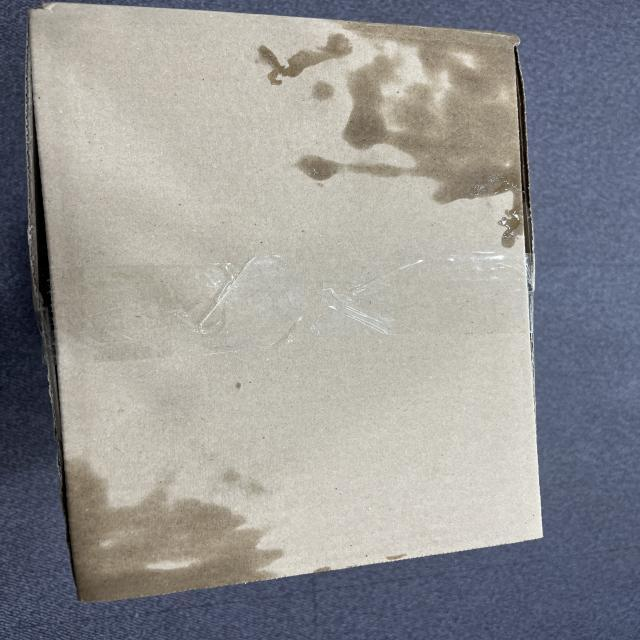wet: (272, 22, 544, 260), (55, 456, 298, 620)
